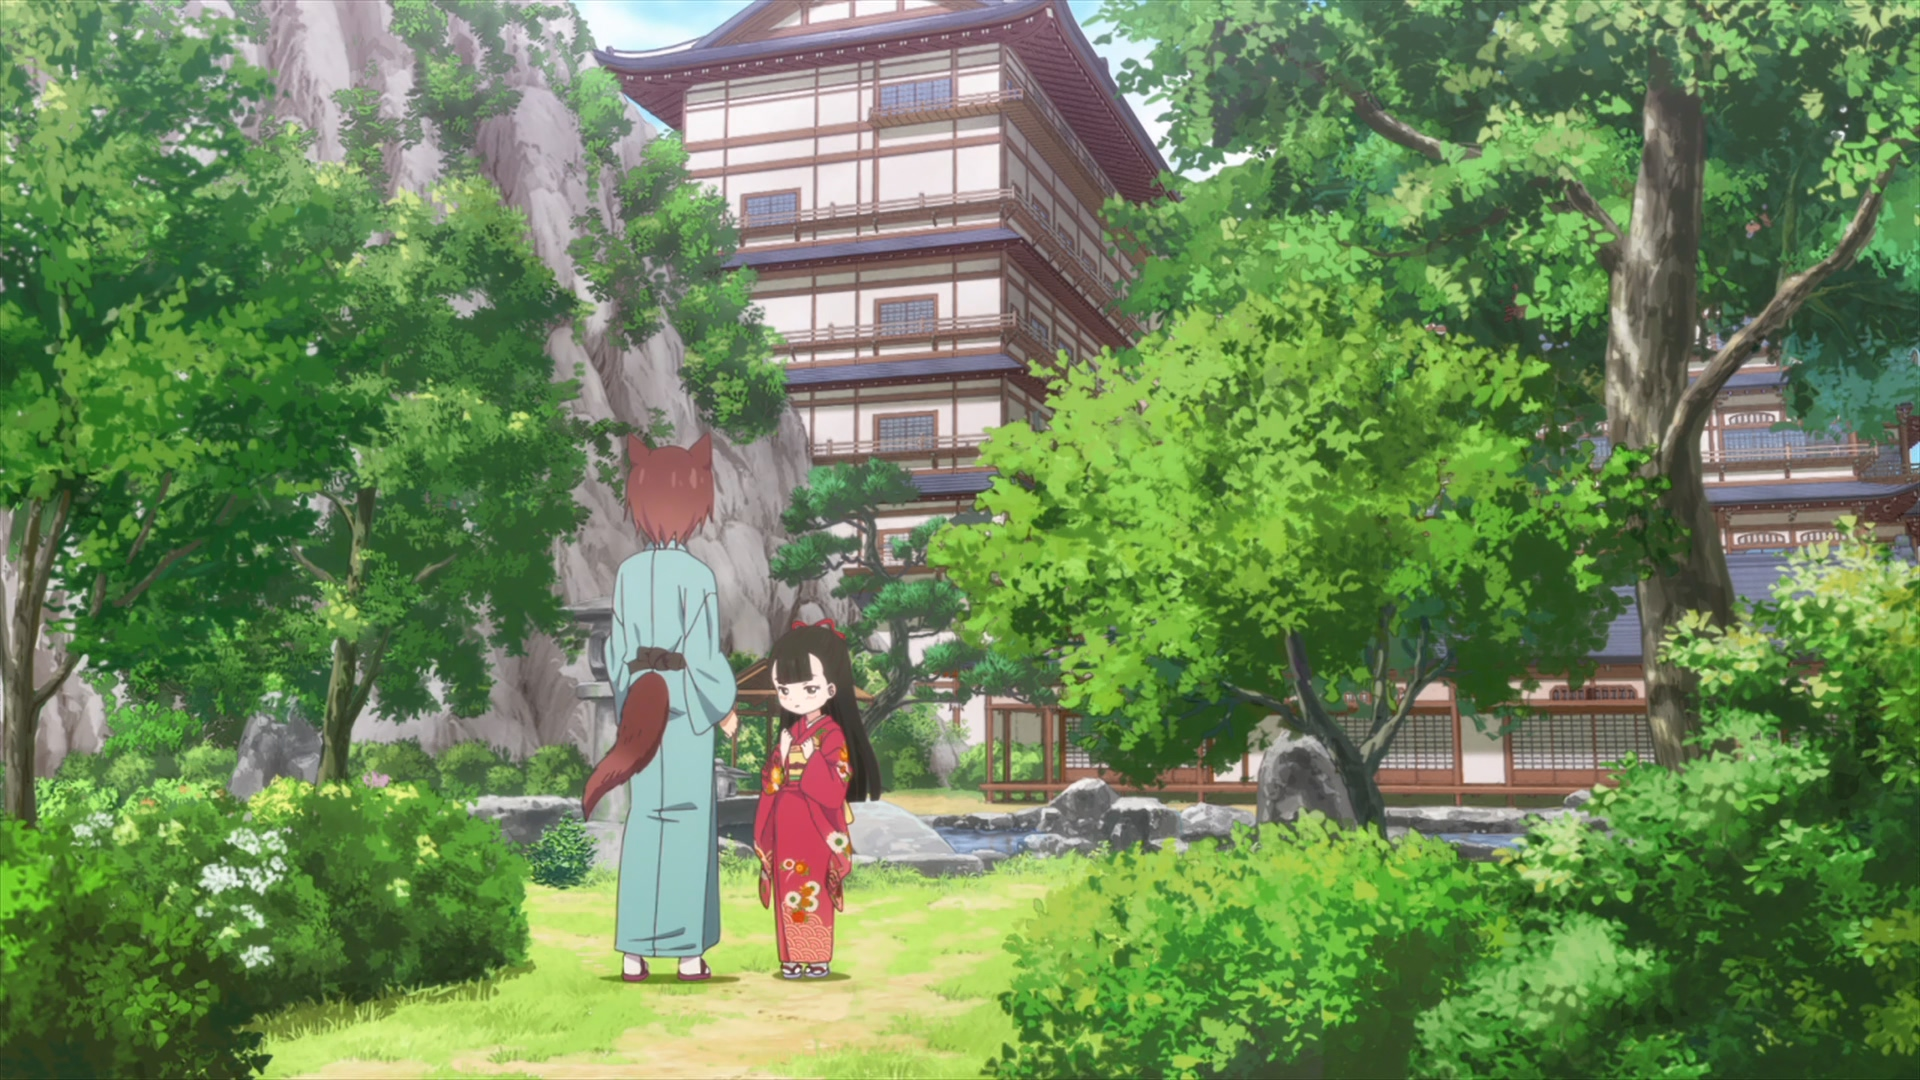其他: (752, 621, 878, 985)
枣: (584, 429, 733, 980)
